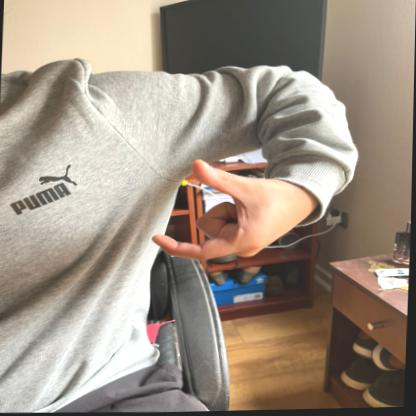G: (150, 152, 295, 267)
